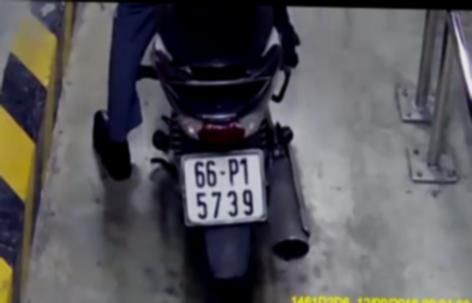License_Plate: (175, 143, 273, 227)
